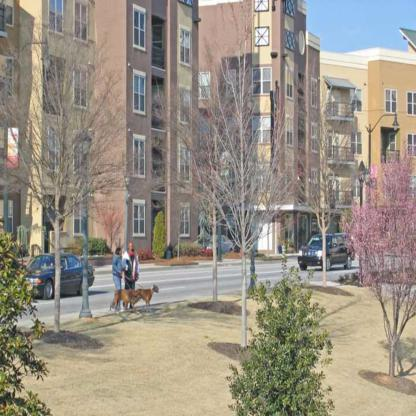Car: (22, 253, 94, 299), (294, 232, 358, 270)
